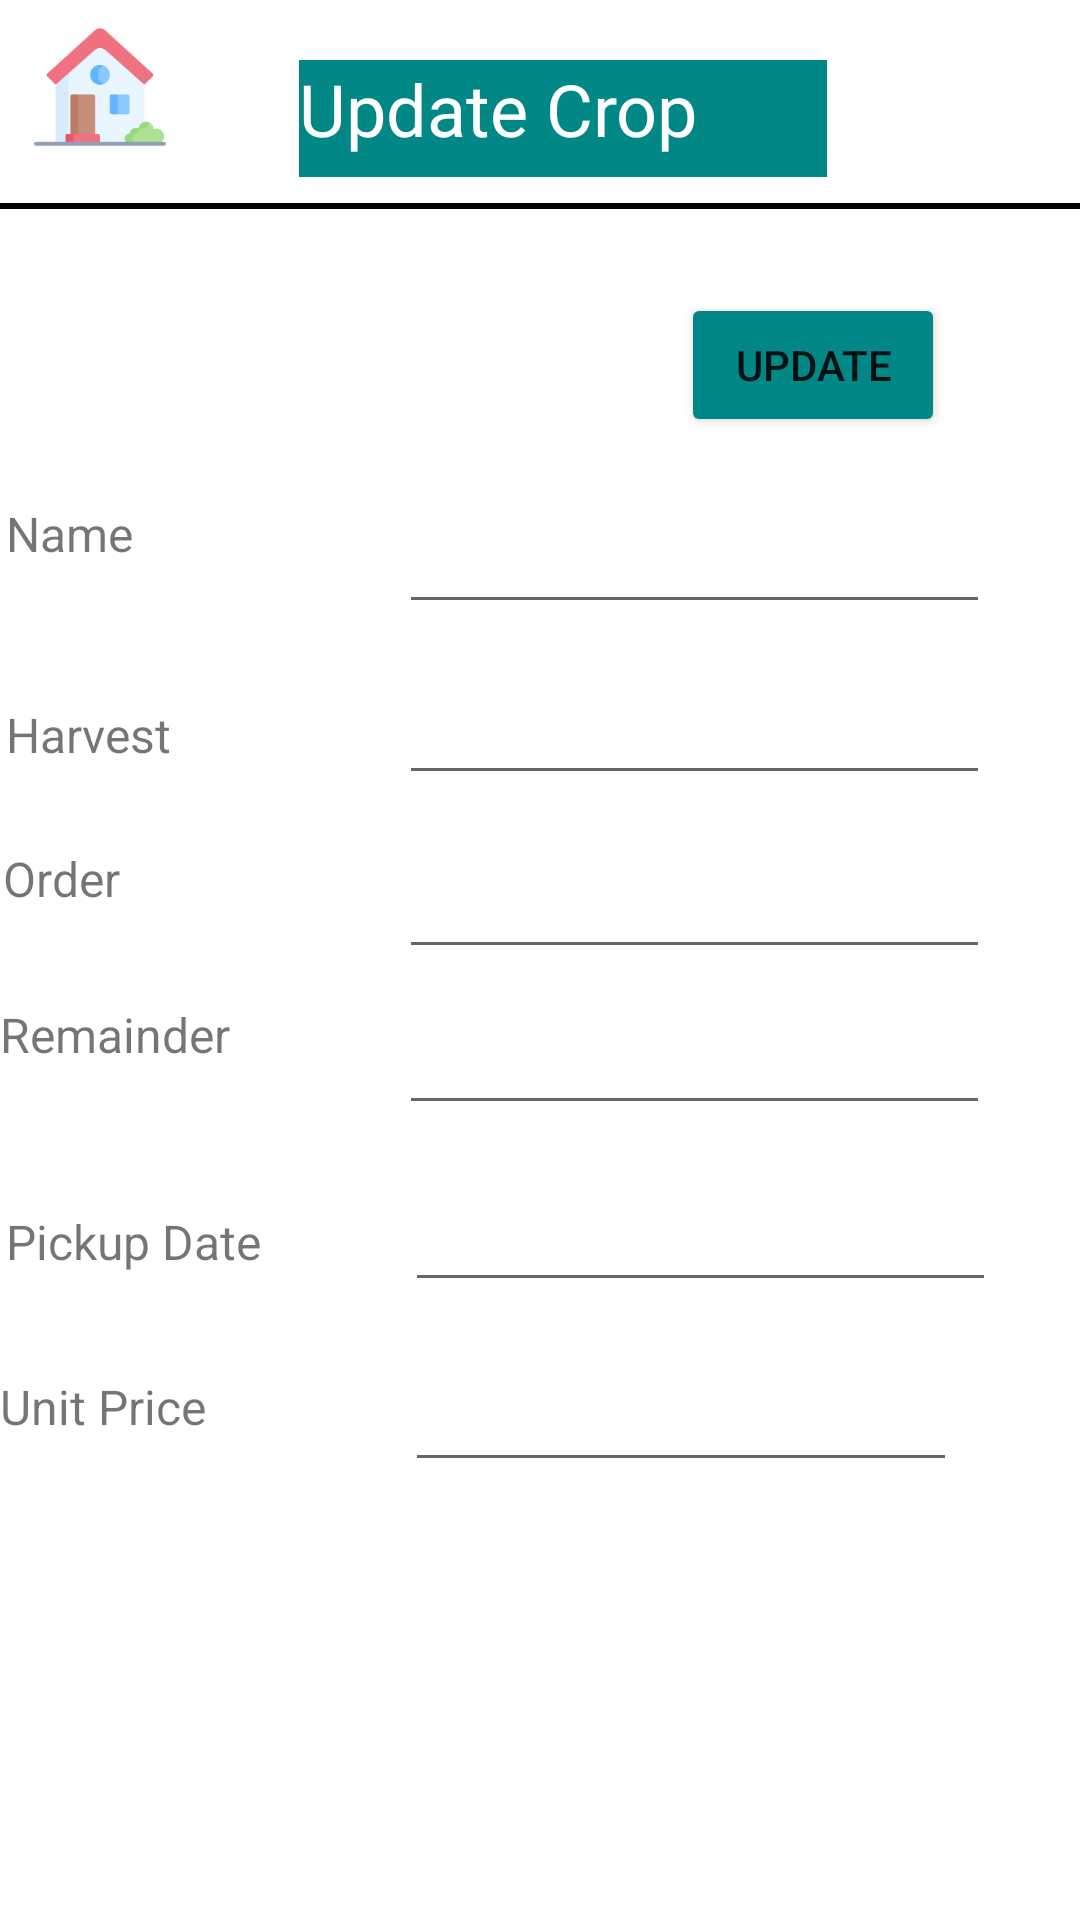

Screen size 1080×1920. Icon name, then its box in pixels as (x1, y1, x2, y2):
home: (34, 28, 166, 146)
